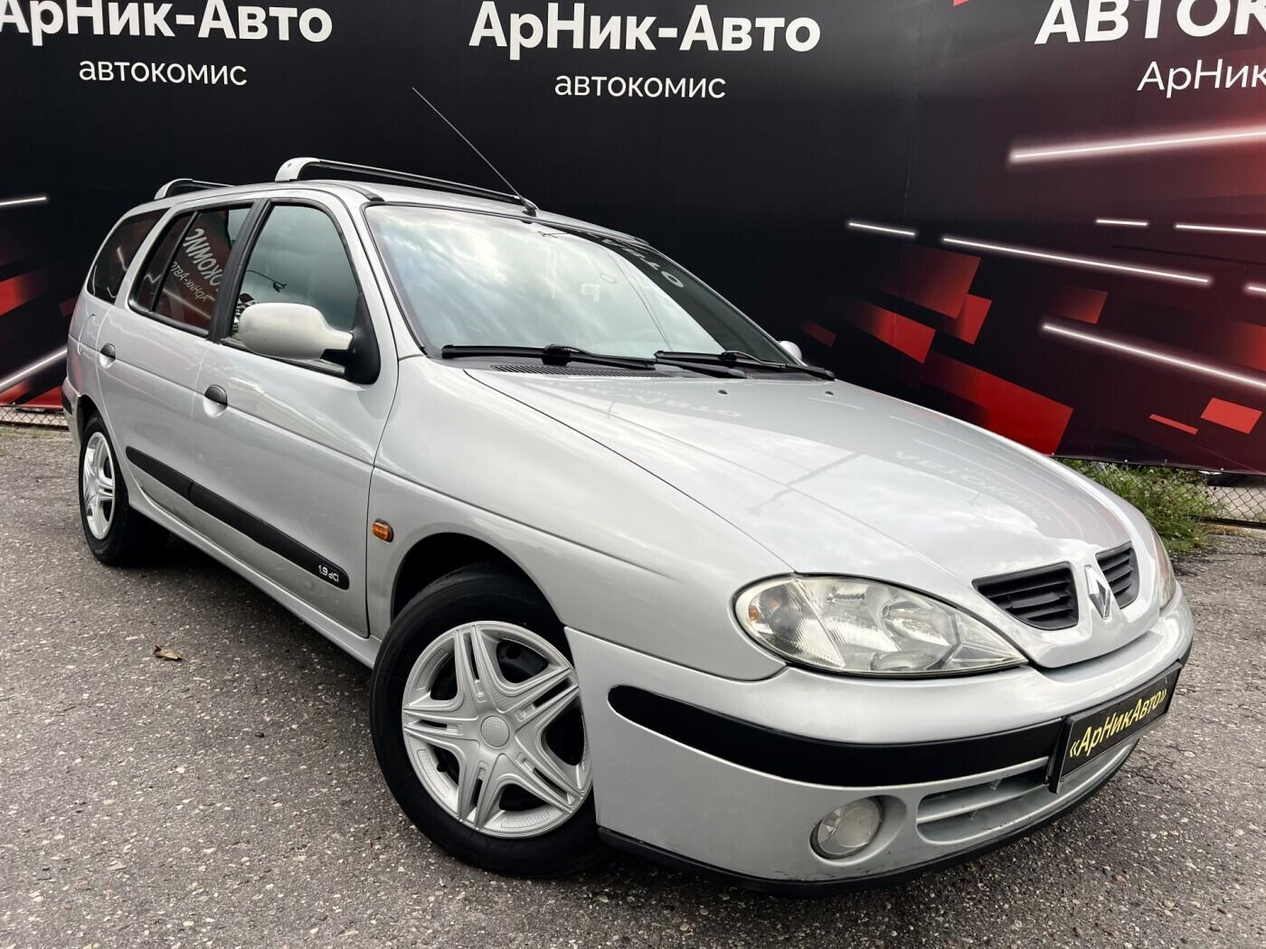Megane_1999-2003: (61, 174, 1198, 887)
